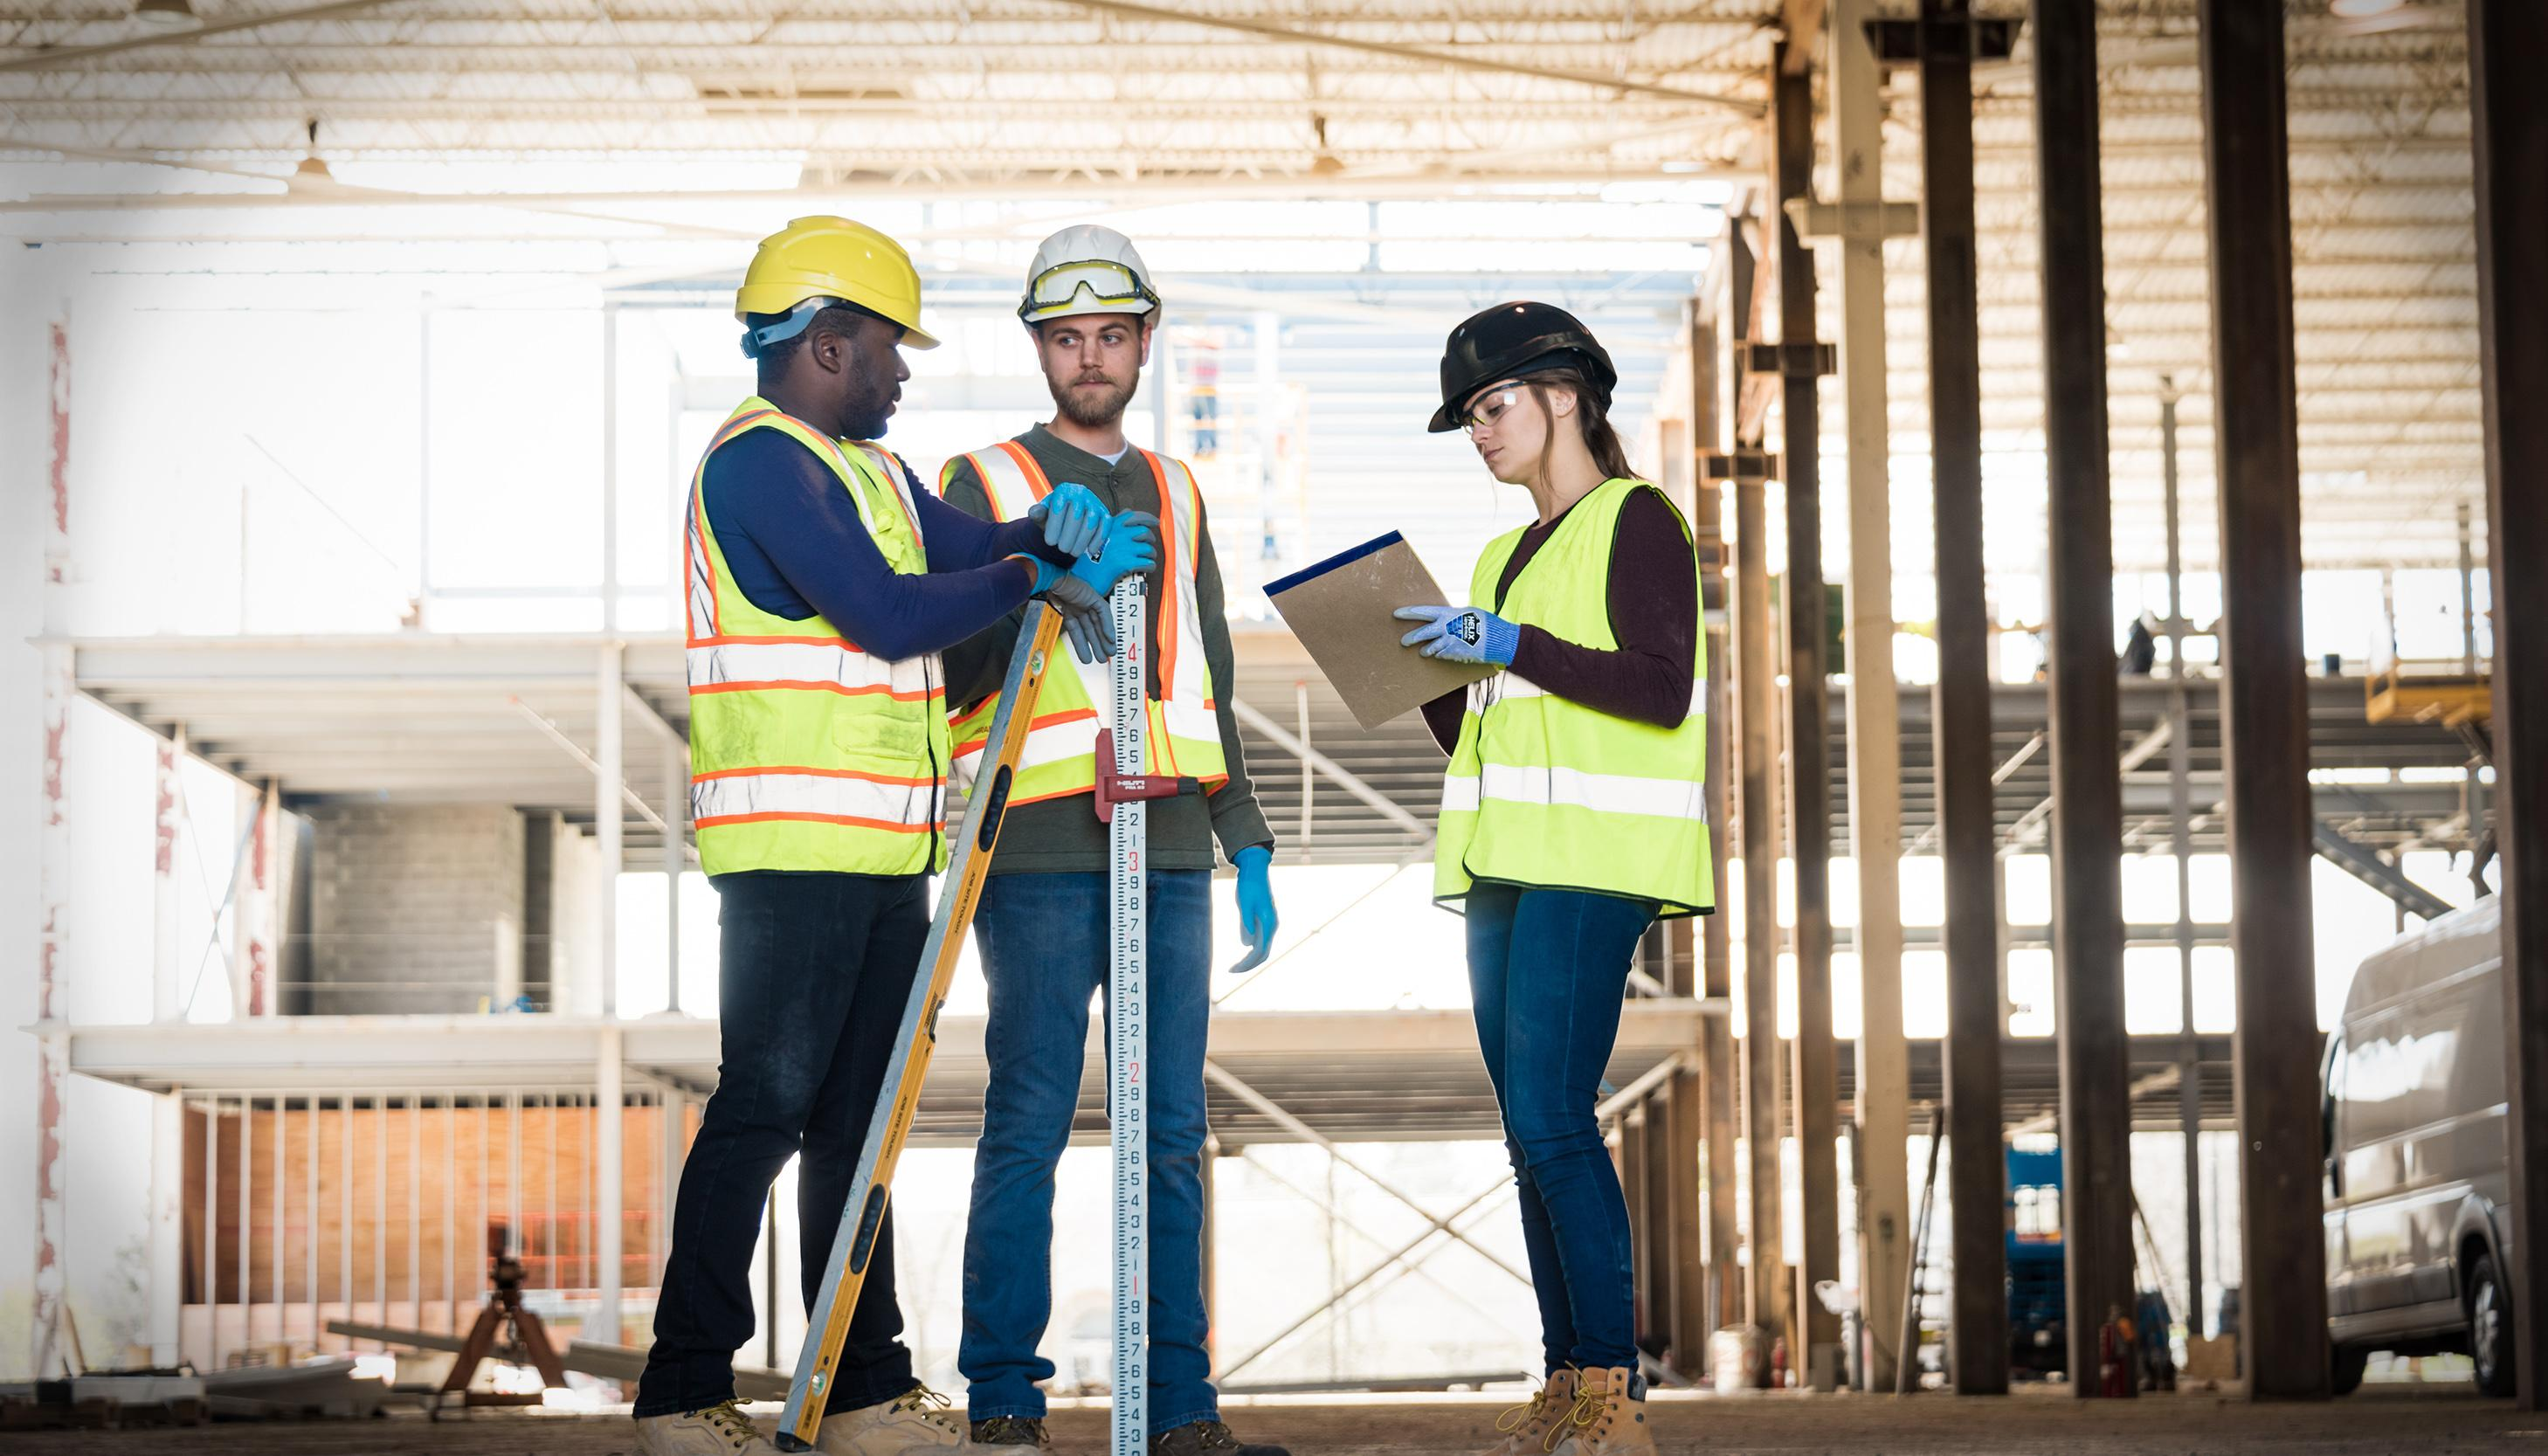helmet: (735, 213, 954, 355), (1423, 297, 1624, 446), (1017, 222, 1169, 339)
